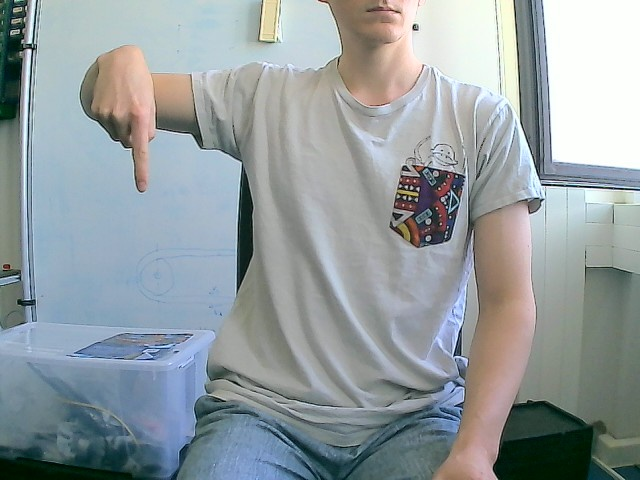down: (78, 43, 158, 194)
